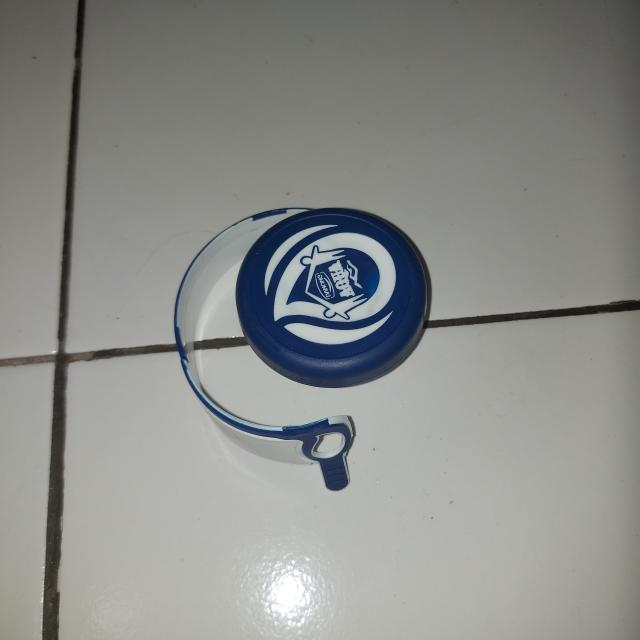Anorganik: (176, 206, 428, 489)
